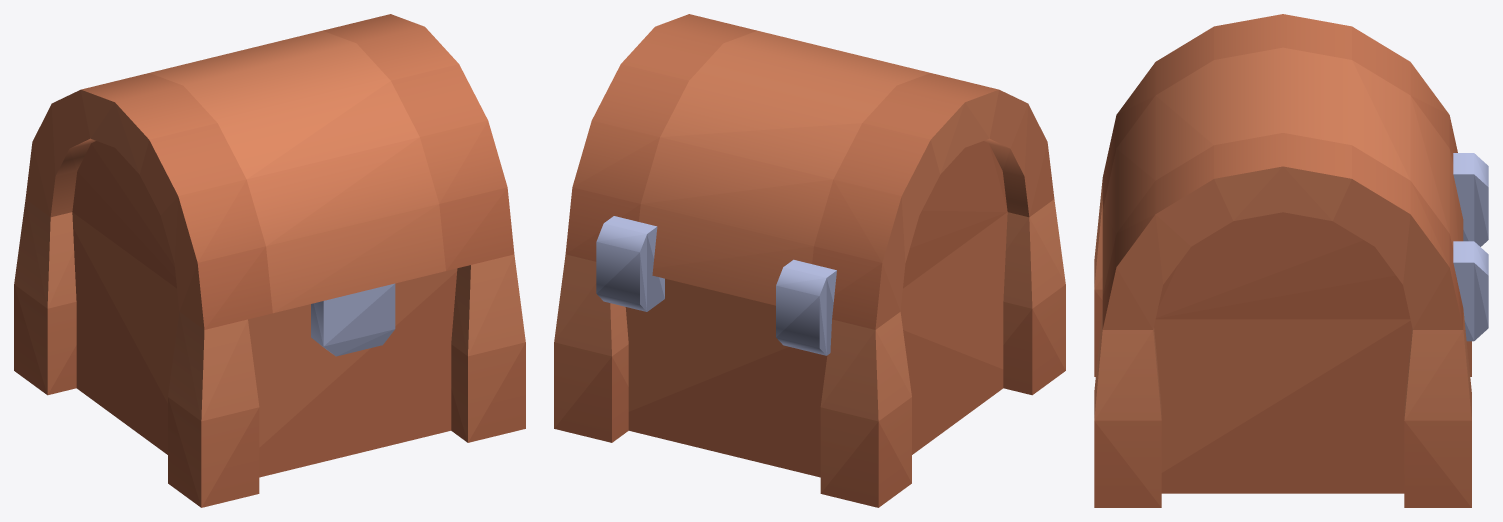
Rendered from chest.glb.
3 views of the same model, side by side, from view 1: azimuth 30°, elevation 25°; view 2: azimuth 150°, elevation 25°; view 3: azimuth 270°, elevation 25° (orthographic).
Parts seen in each view (by area): view 1: cbc6a49, cc77450, cdb845d, ccf7a55, ccb7753, cd37d58, cdf8860, cb86746, cd7815b, cca7652, cc4714e, cc06e4c (+2 smaller); view 2: cc77450, cbc6a49, cdb845d, ccf7a55, ccb7753, cd37d58, cdf8860, cd7815b, cca7652, cc4714e, cb86746, cc06e4c (+6 smaller); view 3: cbc6a49, cc77450, cdb845d, ccf7a55, ccb7753, cd37d58, cc06e4c, cd7815b, cb86746, cdf8860, ca9b1d4, cc4714e (+3 smaller).
Boxes of the visible parts, left/top/right/bottom form: cbc6a49: left=14, top=143, right=525, bottom=507; cc77450: left=14, top=120, right=525, bottom=507; cdb845d: left=14, top=30, right=525, bottom=421; ccf7a55: left=69, top=14, right=458, bottom=262; ccb7753: left=32, top=64, right=487, bottom=310; cd37d58: left=51, top=90, right=418, bottom=245; cdf8860: left=25, top=199, right=514, bottom=420; cb86746: left=72, top=171, right=514, bottom=329; cd7815b: left=90, top=81, right=419, bottom=179; cca7652: left=266, top=204, right=438, bottom=312; cc4714e: left=198, top=121, right=507, bottom=262; cc06e4c: left=91, top=141, right=174, bottom=266; cc77450: left=554, top=120, right=1065, bottom=493; cbc6a49: left=554, top=144, right=1065, bottom=507; cdb845d: left=554, top=30, right=1065, bottom=421; ccf7a55: left=621, top=14, right=1028, bottom=246; ccb7753: left=592, top=64, right=1047, bottom=310; cd37d58: left=641, top=90, right=1027, bottom=262; cdf8860: left=554, top=199, right=1065, bottom=406; cd7815b: left=661, top=103, right=989, bottom=179; cca7652: left=639, top=204, right=812, bottom=268; cc4714e: left=573, top=137, right=881, bottom=262; cb86746: left=566, top=204, right=1006, bottom=329; cc06e4c: left=922, top=141, right=1007, bottom=211; cbc6a49: left=1094, top=116, right=1471, bottom=507; cc77450: left=1094, top=62, right=1471, bottom=507; cdb845d: left=1094, top=47, right=1471, bottom=420; ccf7a55: left=1116, top=14, right=1449, bottom=284; ccb7753: left=1116, top=26, right=1449, bottom=329; cd37d58: left=1116, top=96, right=1449, bottom=284; cc06e4c: left=1156, top=212, right=1363, bottom=317; cd7815b: left=1155, top=60, right=1410, bottom=220; cb86746: left=1102, top=117, right=1463, bottom=328; cdf8860: left=1094, top=180, right=1471, bottom=420; ca9b1d4: left=1453, top=174, right=1488, bottom=340; cc4714e: left=1116, top=96, right=1449, bottom=266.
Bounding box in the file's own units: 0.2604 × 0.2572 × 0.272.
